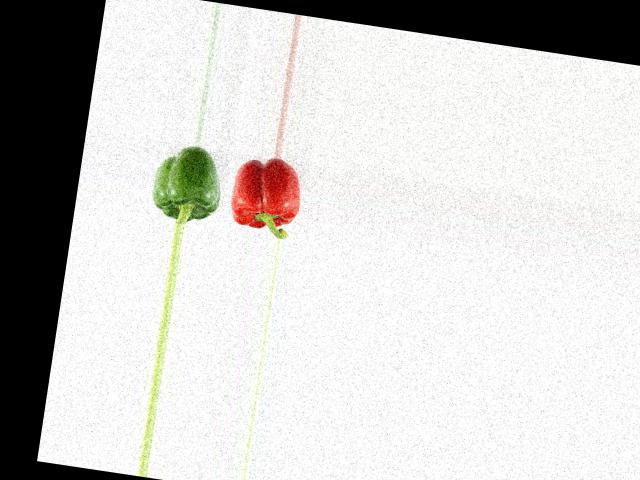bell_pepper: (146, 143, 229, 228)
